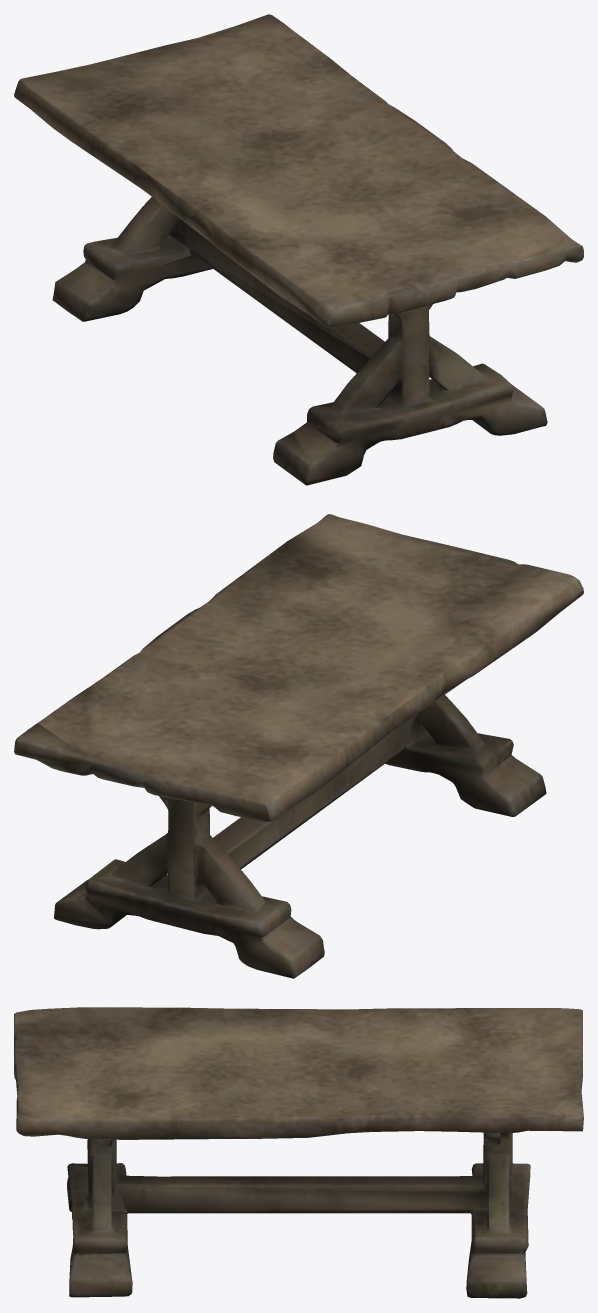
Rendered from weathered-wood-banquet-table-v001.glb.
3 renders of one model, top to bottom at view 1: azimuth 30°, elevation 25°; view 2: azimuth 150°, elevation 25°; view 3: azimuth 270°, elevation 25°, orthographic. The views are drawn at different scales.
Visible parts, largest first — view 1: weathered-wood-banquet-table; view 2: weathered-wood-banquet-table; view 3: weathered-wood-banquet-table.
Boxes of the visible parts, x1,y1,x2,y2 form: weathered-wood-banquet-table: [14, 14, 583, 485]; weathered-wood-banquet-table: [14, 514, 583, 978]; weathered-wood-banquet-table: [14, 1007, 583, 1298].
Size of the model in its own units: 1.06 by 0.8088 by 2.23.
Materials: 1 (1 with a texture image).
